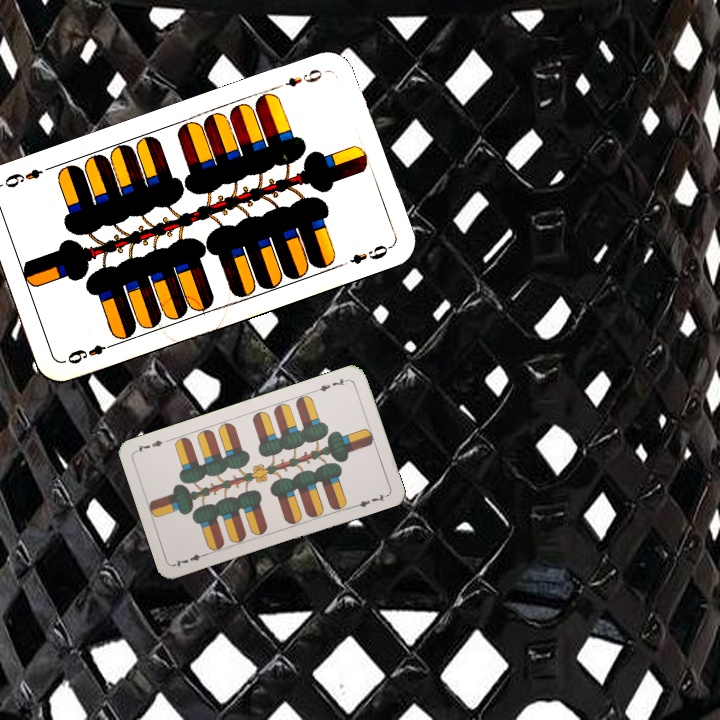E7: (171, 549, 210, 570), (311, 374, 351, 394)
E9: (63, 339, 118, 367), (281, 65, 329, 90)
